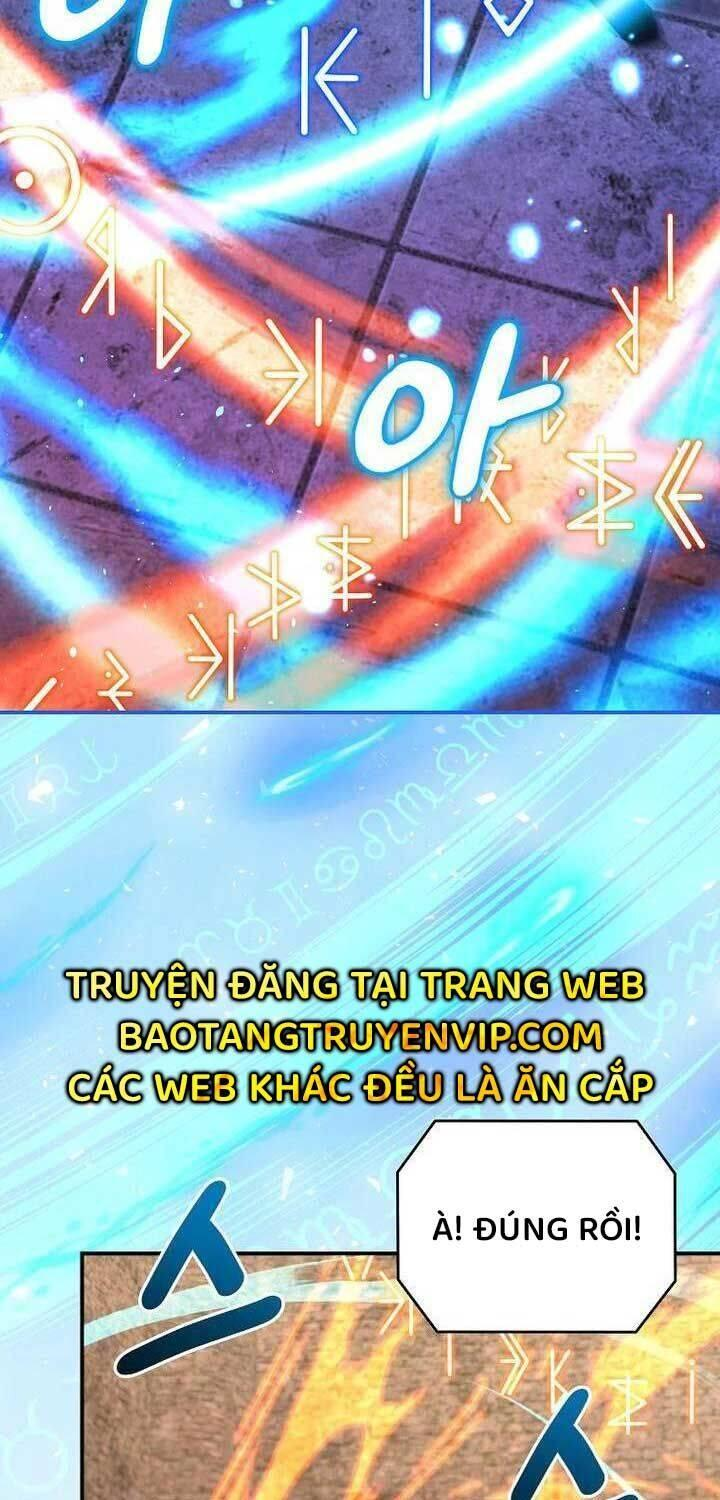quangcao: (62, 958, 656, 1108)
